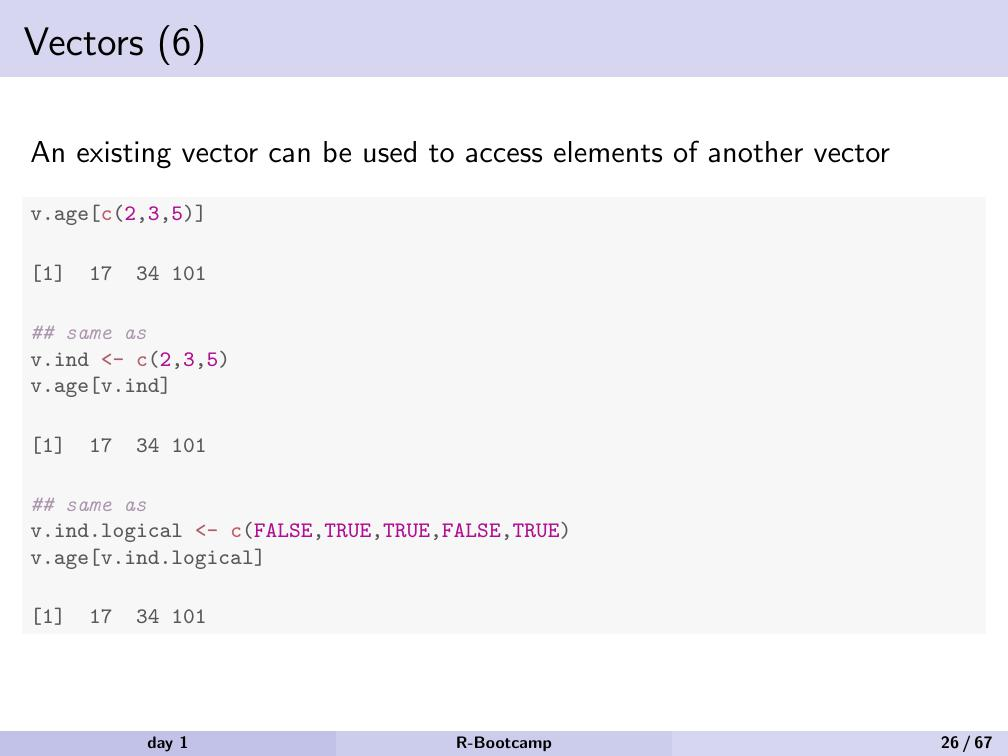Title: (15, 13, 223, 74)
